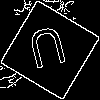U: (25, 25, 72, 79)
